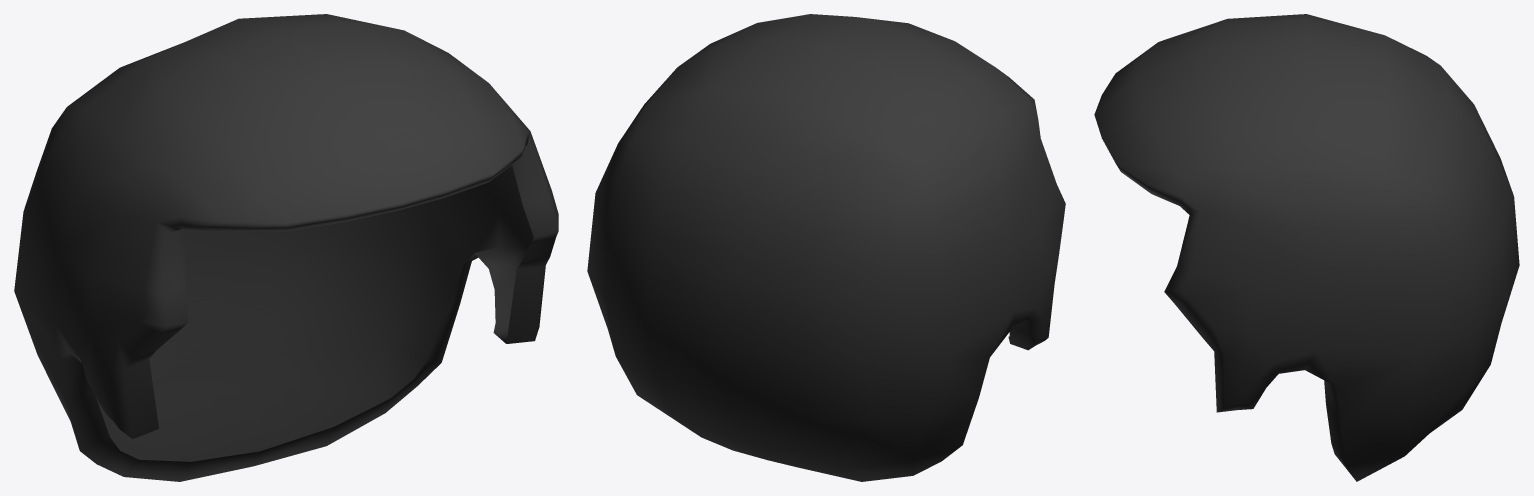
Rendered from Hair_9.fbx.
The picture shows the model from 3 angles, left to right: view 1: azimuth 30°, elevation 25°; view 2: azimuth 150°, elevation 25°; view 3: azimuth 270°, elevation 25°; orthographic projection. The views are drawn at different scales.
Parts seen in each view (by area): view 1: Hair_9; view 2: Hair_9; view 3: Hair_9.
Part boxes in pixels (bbox=[...]): Hair_9: bbox=[14, 14, 558, 481]; Hair_9: bbox=[587, 14, 1065, 481]; Hair_9: bbox=[1094, 14, 1519, 481].
Size of the model in its own units: 52.84 by 51.31 by 48.92.
